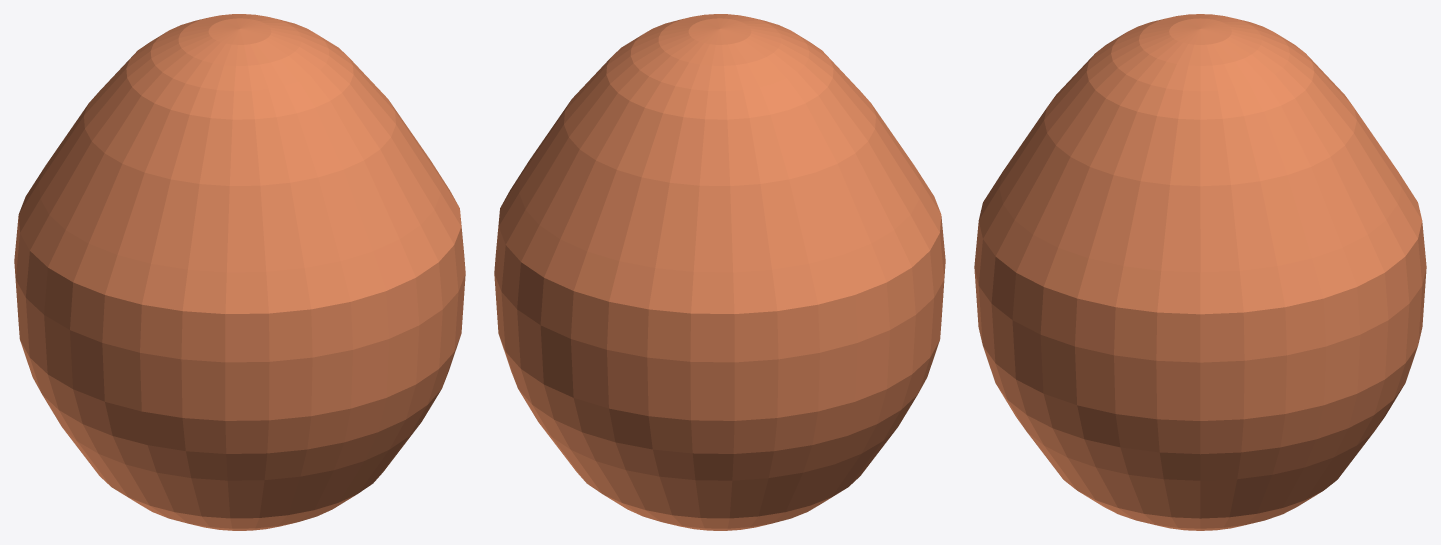
File: batata.fbx
3 renders of one model, left to right at view 1: azimuth 30°, elevation 25°; view 2: azimuth 150°, elevation 25°; view 3: azimuth 270°, elevation 25°, orthographic.
Parts seen in each view (by area): view 1: Sphere; view 2: Sphere; view 3: Sphere.
Part boxes in pixels (x1,y1,x2,y2): Sphere: (14, 14, 465, 530); Sphere: (494, 14, 945, 530); Sphere: (974, 14, 1426, 530).
Bounding box in the file's own units: 200 × 235 × 200.
